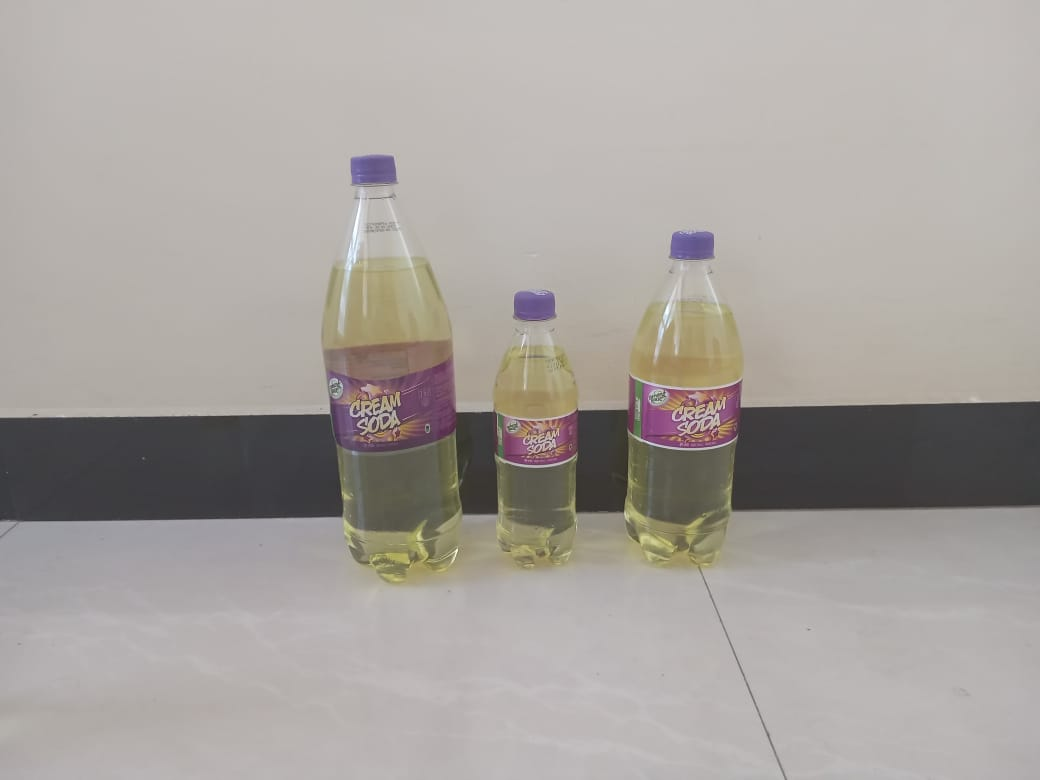L: (321, 160, 465, 582)
M: (622, 228, 741, 566)
S: (493, 288, 584, 570)
